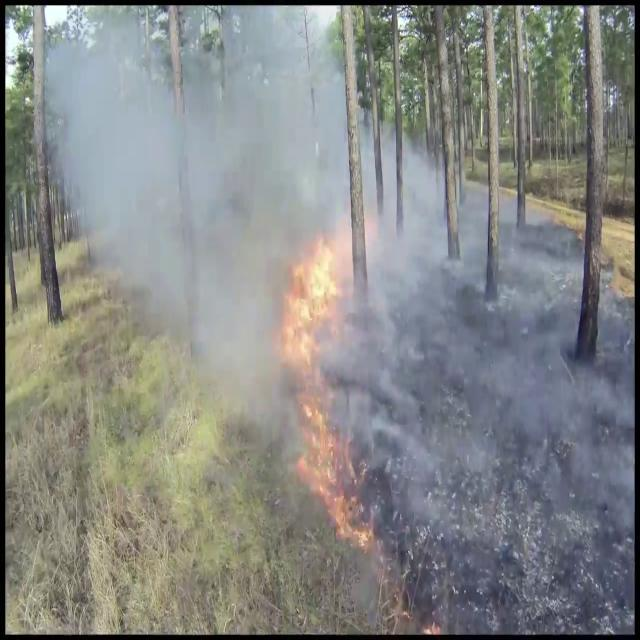Fire: (275, 225, 368, 542)
Smoke: (47, 6, 330, 477), (344, 61, 596, 550)
